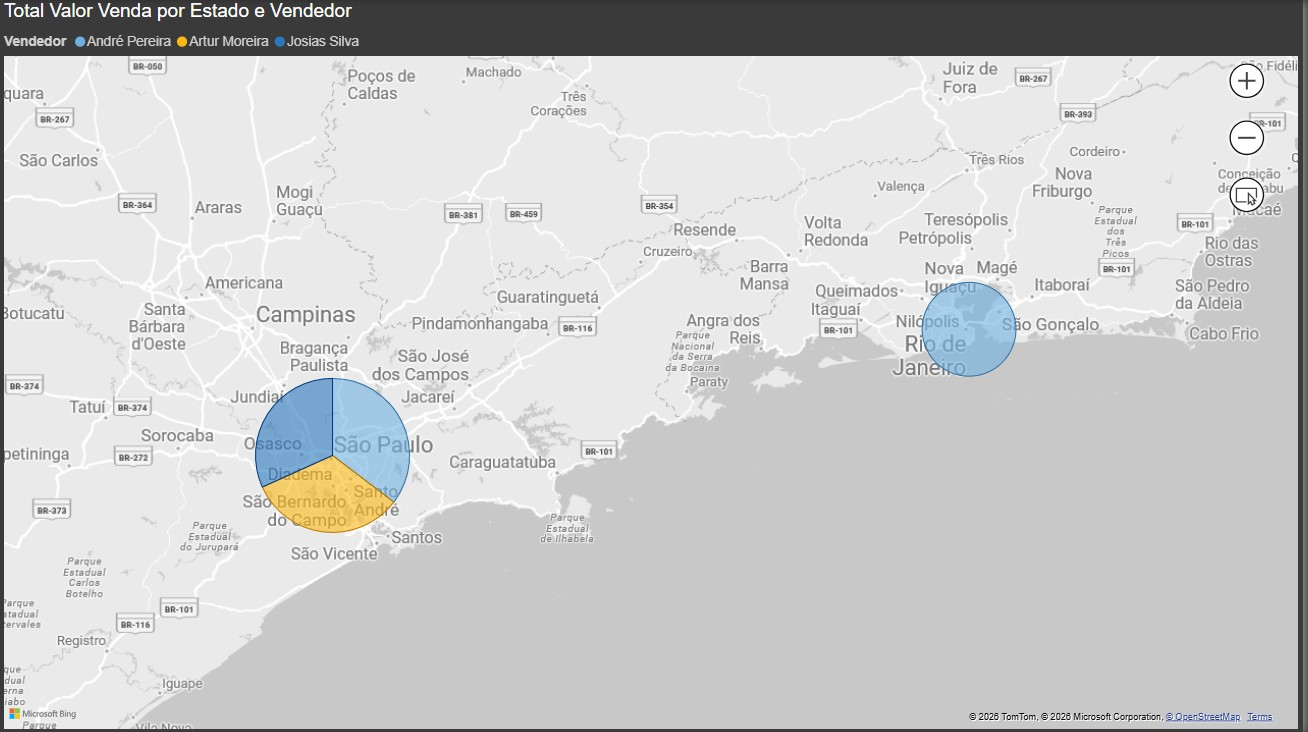

Layout of this report page (visuals, bound fields, positions):
{"tool":"powerbi","page":{"name":"Performance dos Vendedores da Região","canvas":[1280,720],"ordinal":4},"visuals":[{"type":"map","fields":{"Category":["Vendas.Estado"],"Series":["Vendas.Vendedor"],"Size":["Sum(Vendas.ValorVenda)"]},"box":[0,0,1280,720],"z":0}]}

Visuals, with their boxes in screenshot pixels (x1, y1, x2, y2), scaled from the page's 1280x720 canvas onto the 1308x732 screenshot:
map - Vendas.Estado x Vendas.Vendedor: box=[0, 0, 1307, 731]
